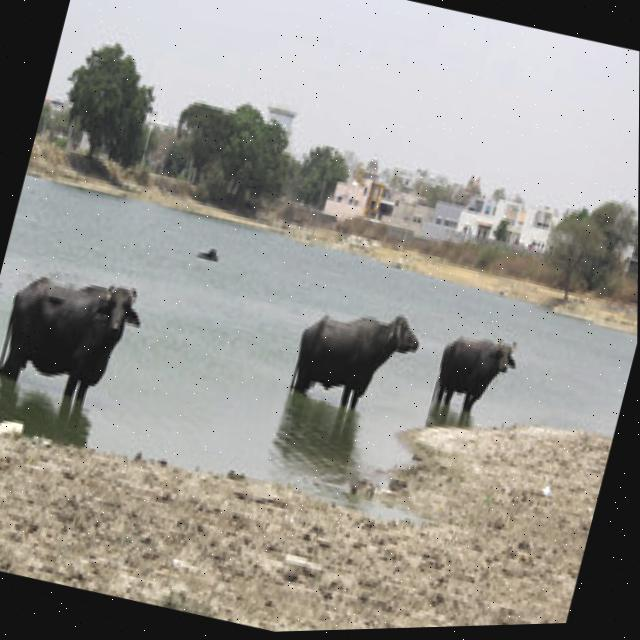Buffalo: (0, 261, 145, 412), (288, 287, 430, 421)
